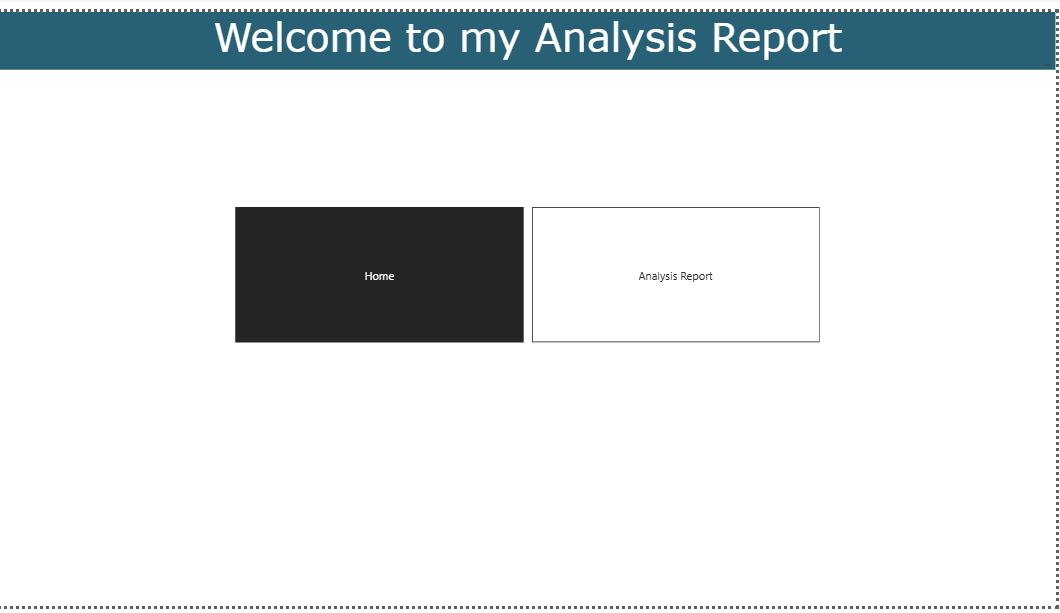

The dashboard page shown, as its layout file describes it:
{"tool":"powerbi","page":{"name":"Home","canvas":[1280,720],"ordinal":0},"visuals":[{"type":"pageNavigator","box":[284.9,235.8,709.4,164.2],"z":0},{"type":"textbox","title":"Welcome to my Analysis Report","box":[0,0,1279.2,69.8],"z":1000}]}

Visuals, with their boxes in screenshot pixels (x1, y1, x2, y2), scaled from the page's 1280x720 canvas onto the 1060x613 screenshot:
pageNavigator: {"x1": 236, "y1": 201, "x2": 823, "y2": 341}
"Welcome to my Analysis Report" textbox: {"x1": 0, "y1": 0, "x2": 1059, "y2": 59}
